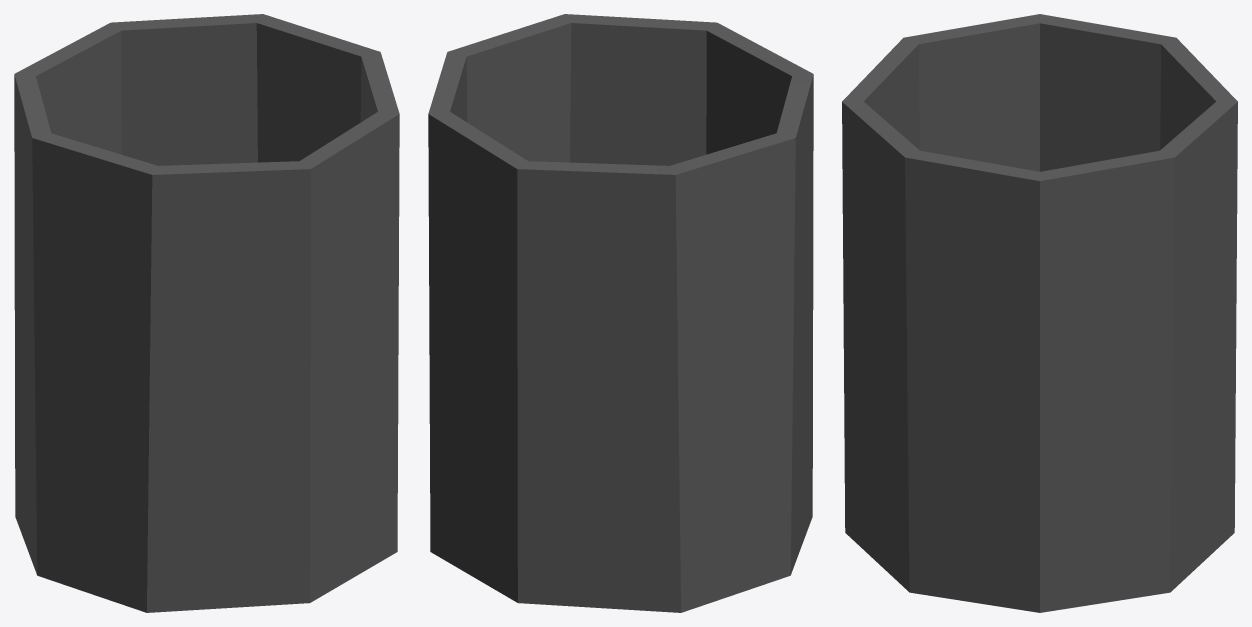
File: Bathroom2_Cup.fbx
3 renders of one model, left to right at view 1: azimuth 30°, elevation 25°; view 2: azimuth 150°, elevation 25°; view 3: azimuth 270°, elevation 25°, orthographic.
Visible parts, largest first — view 1: Bathroom2_Cup; view 2: Bathroom2_Cup; view 3: Bathroom2_Cup.
Boxes of the visible parts, left/top/right/bottom form: Bathroom2_Cup: left=14, top=14, right=399, bottom=612; Bathroom2_Cup: left=428, top=14, right=813, bottom=612; Bathroom2_Cup: left=842, top=14, right=1237, bottom=612.
Bounding box in the file's own units: 12.24 × 15.03 × 12.17.
